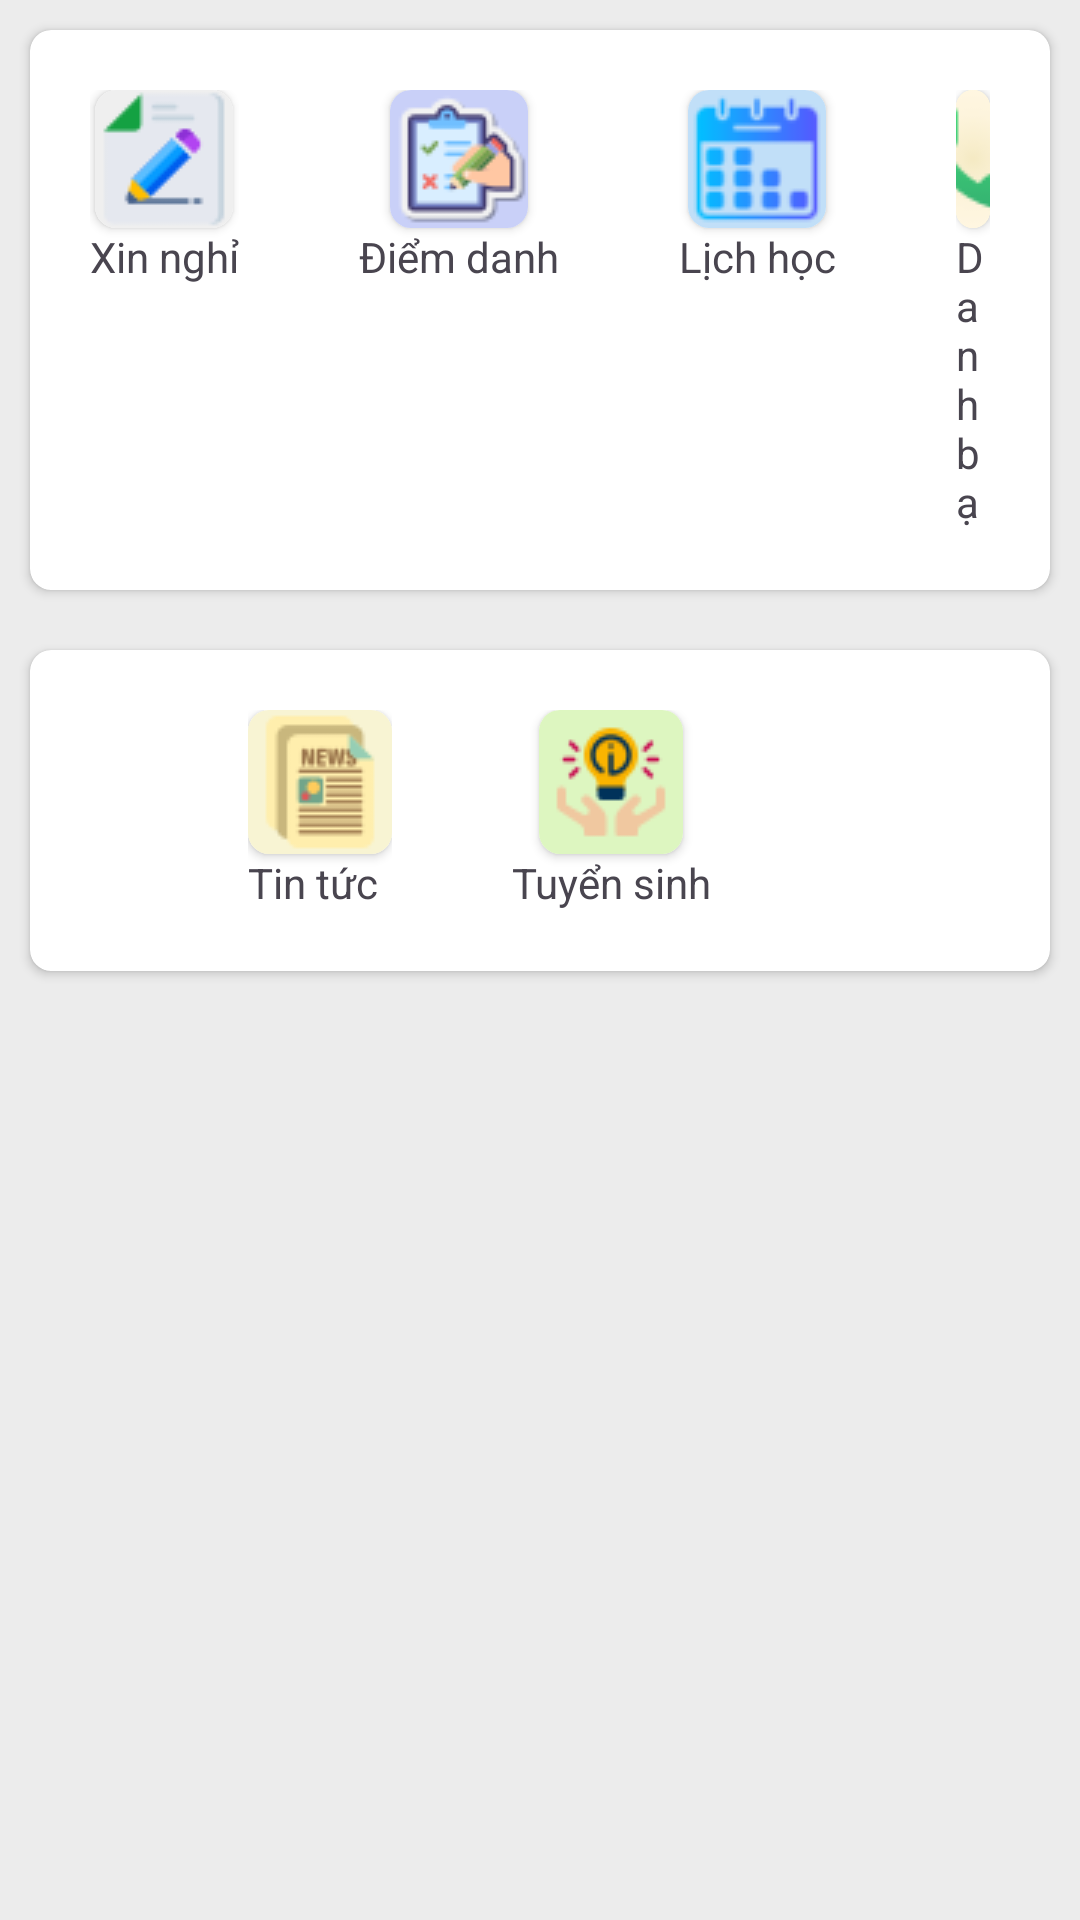

Icons on this 1080×1920 Android screen, each with its box as (left=x1, top=y1, right=x2, bottom=y2):
editfile: (left=95, top=90, right=233, bottom=228)
infor: (left=539, top=710, right=683, bottom=854)
